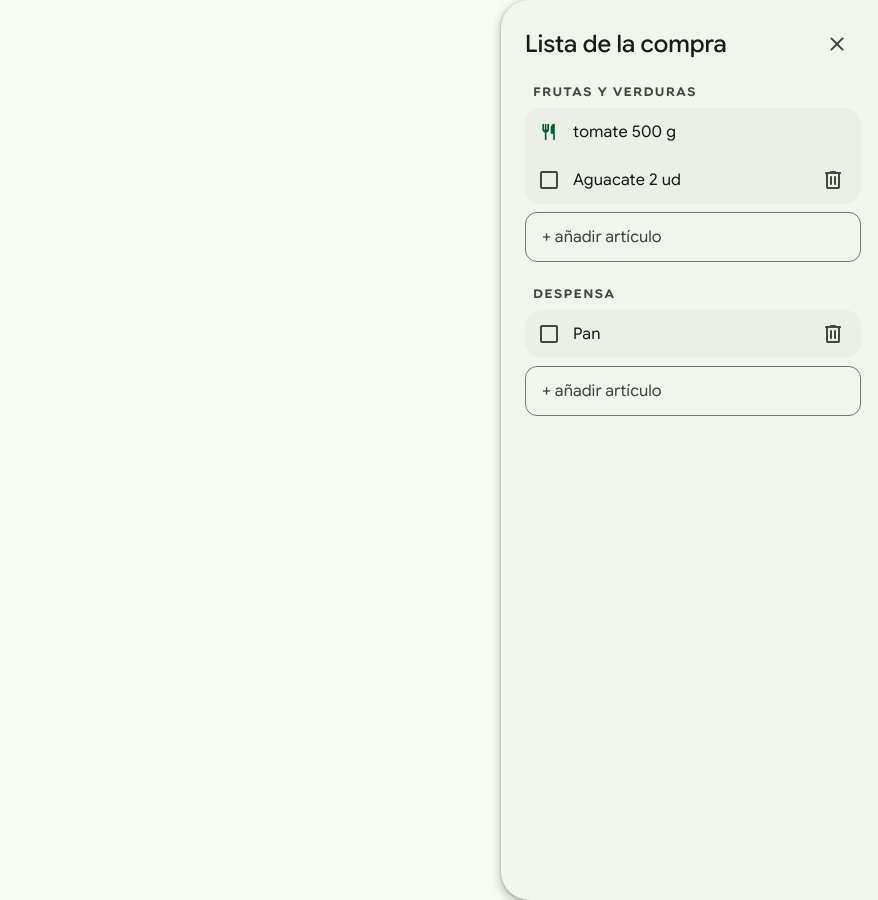
Test case: quitar un manual con Deshacer › Quitar → PUT sin él y snackbar; Deshacer → PUT con él de vuelta
Click the button named "Quitar Pan" at (833, 334), box [809,310,857,358]
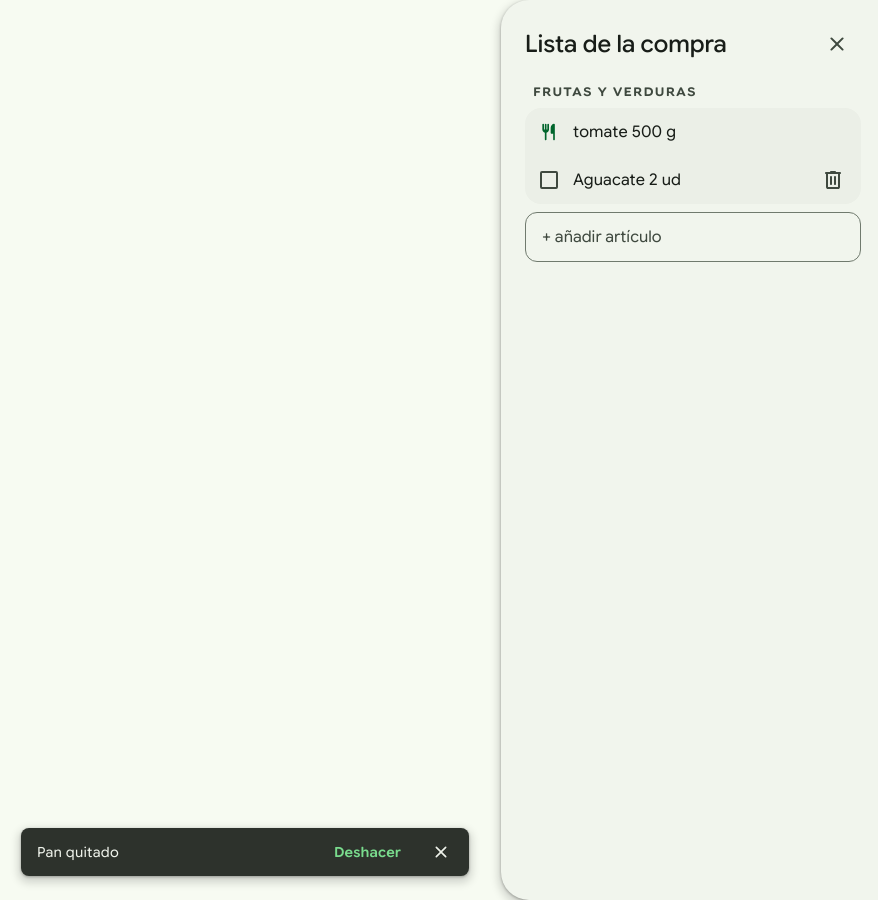
Now the text "Pan quitado" is shown, box [37,843,119,861]
Click the button "Deshacer" at (368, 852), box [322,832,413,872]
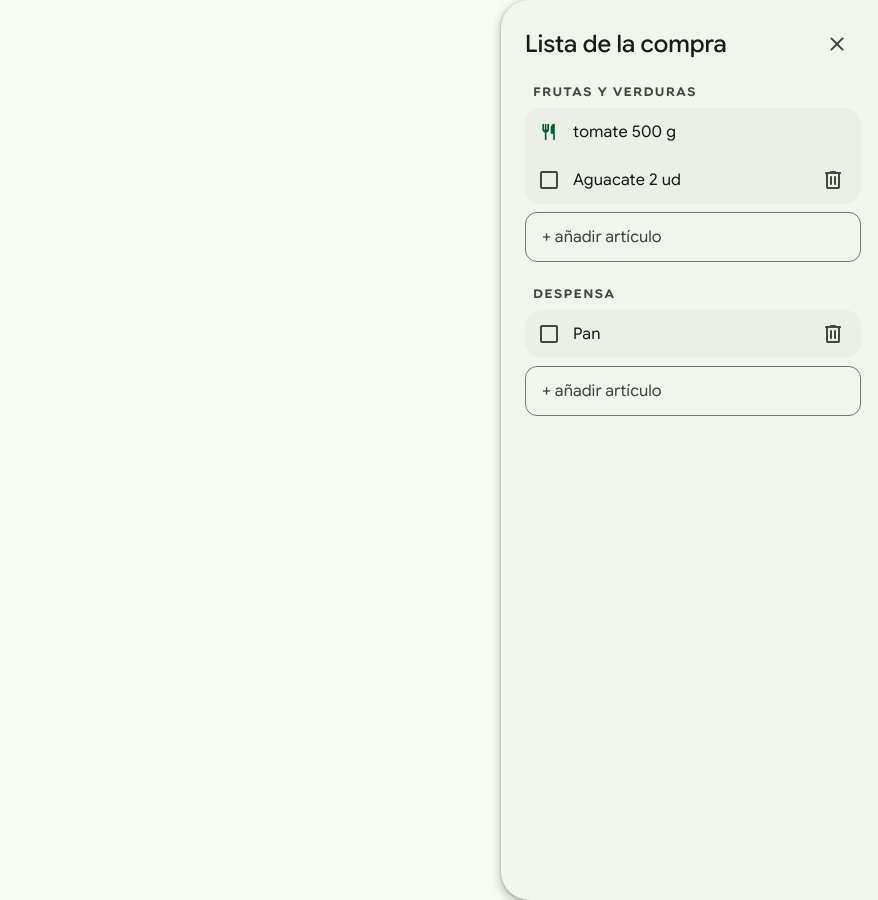
Now the checkbox named "Pan" is shown, box [540,325,558,343]
